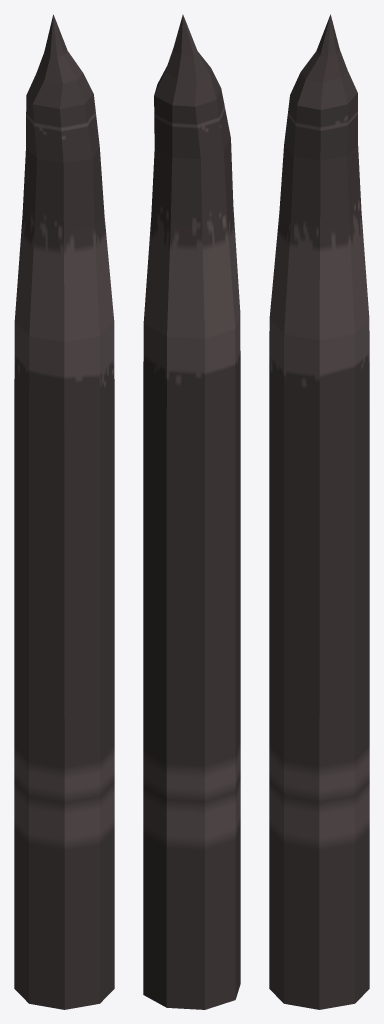
The model's file is stone-pike-b.fbx.
3 views of the same model, side by side, from view 1: azimuth 90°, elevation 25°; view 2: azimuth 150°, elevation 25°; view 3: azimuth 270°, elevation 25° (orthographic).
Visible parts, largest first — view 1: Cylinder; view 2: Cylinder; view 3: Cylinder.
Part boxes in pixels (x1,y1,x2,y2): Cylinder: (14, 14, 114, 1009); Cylinder: (143, 14, 240, 1009); Cylinder: (269, 14, 369, 1009).
Bounding box in the file's own units: 182 × 1950 × 182.
